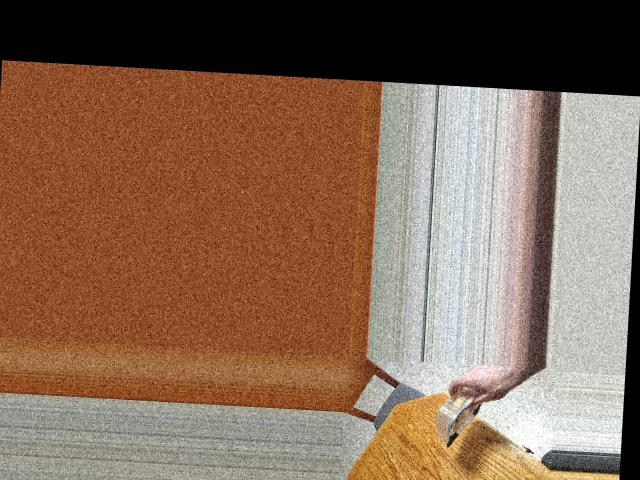cheese: (426, 377, 504, 444)
